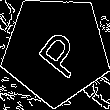P_NW: (26, 20, 86, 80)
